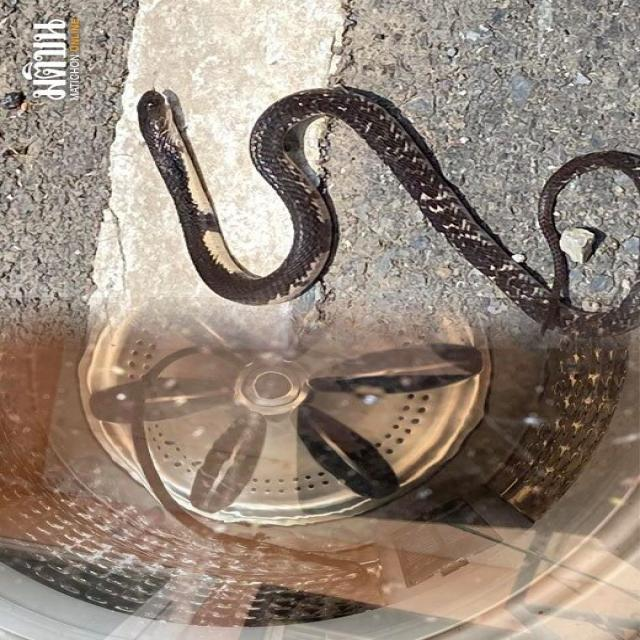Non-Venomous: (134, 87, 228, 199)
